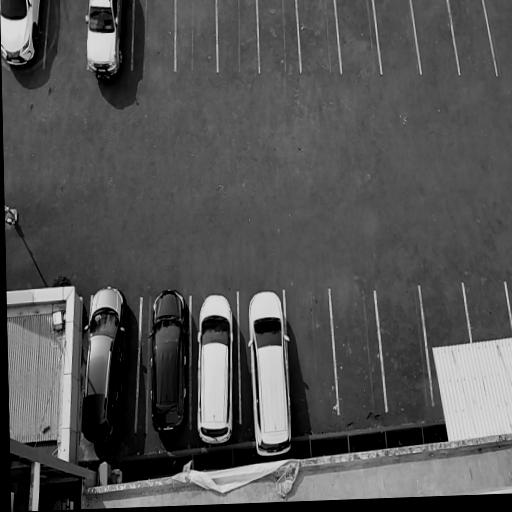Car: (245, 288, 295, 458), (79, 282, 130, 446), (196, 289, 235, 446), (149, 283, 189, 435), (83, 0, 129, 81), (0, 0, 44, 73)
Space Available: (376, 286, 432, 409), (330, 290, 386, 412), (285, 290, 338, 415), (448, 0, 496, 75), (412, 0, 459, 75), (374, 0, 421, 74), (335, 0, 381, 74), (420, 283, 470, 348), (297, 0, 341, 72), (217, 0, 260, 73), (258, 0, 300, 73), (132, 0, 176, 69), (176, 0, 218, 71), (464, 279, 512, 341), (44, 0, 87, 66)
